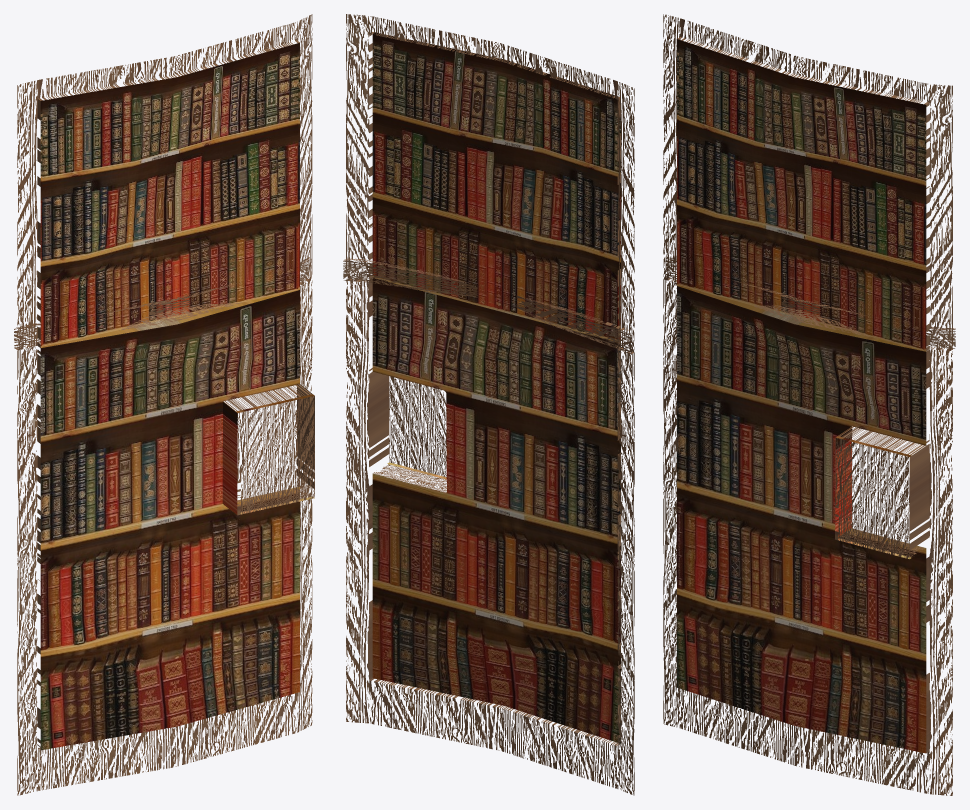
The model's file is parete3.fbx.
3 views of the same model, side by side, from view 1: azimuth 30°, elevation 25°; view 2: azimuth 150°, elevation 25°; view 3: azimuth 330°, elevation 25° (orthographic).
Parts seen in each view (by area): view 1: Circle.003; view 2: Circle.003; view 3: Circle.003.
Boxes of the visible parts, <box> form: Circle.003: <box>14,14,314,795</box>; Circle.003: <box>343,14,634,795</box>; Circle.003: <box>663,14,955,795</box>.
Bounding box in the file's own units: 536 × 1246 × 90.17.
